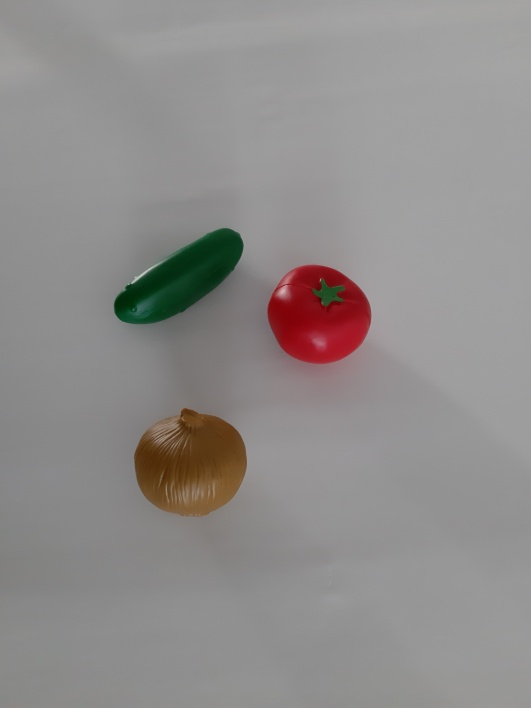cucumber: (109, 218, 254, 337)
onion: (125, 403, 253, 527)
tomato: (259, 258, 384, 369)
